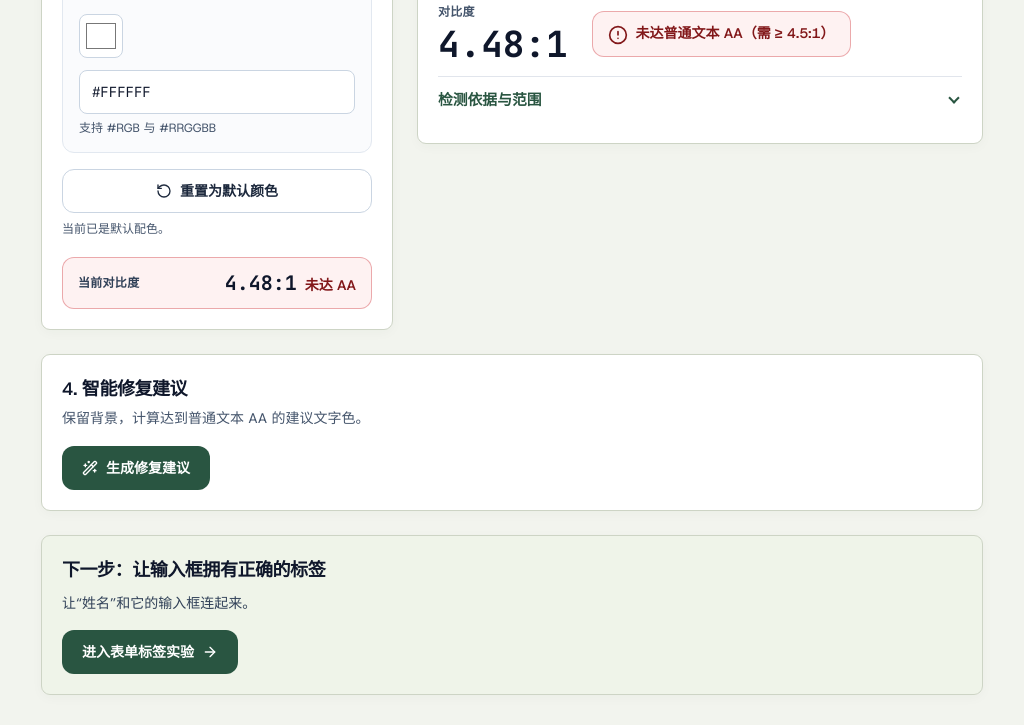
ContrastLabPage · 修复交互（组件接线层） › #7 补充：对比区「建议修复后」一栏给出的真实数值确实达标
(page scrolled)
Click the button "生成修复建议" at point(136, 468), box [62,446,210,490]
(page scrolled)
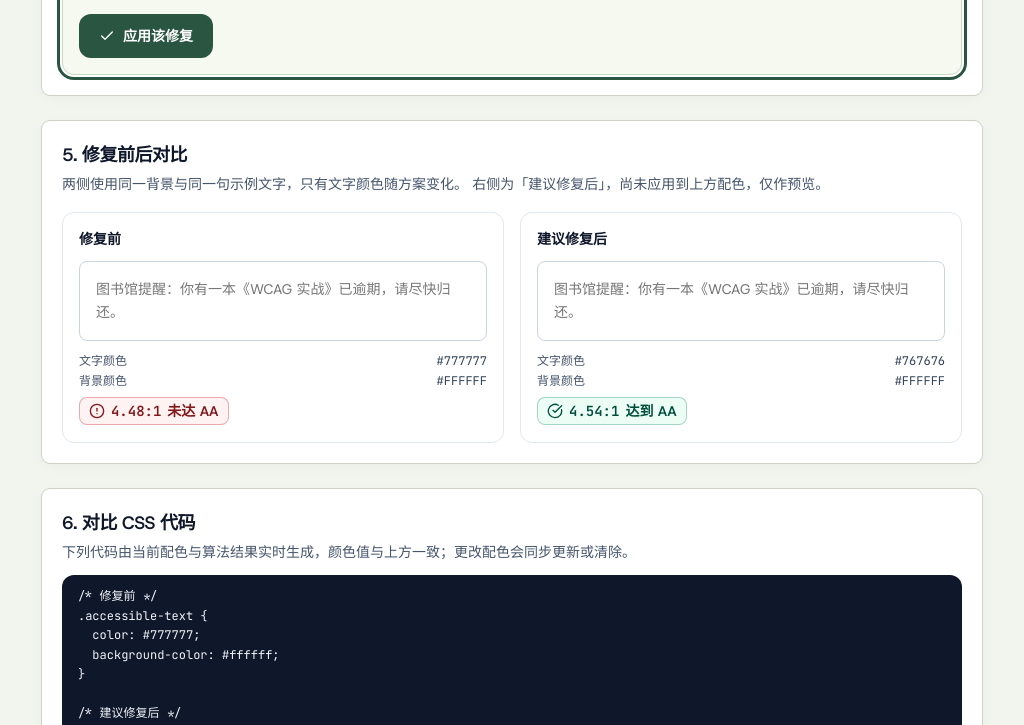
Check: the element that starts with "5. 修复前后对比" is shown, box [41,120,983,464]
